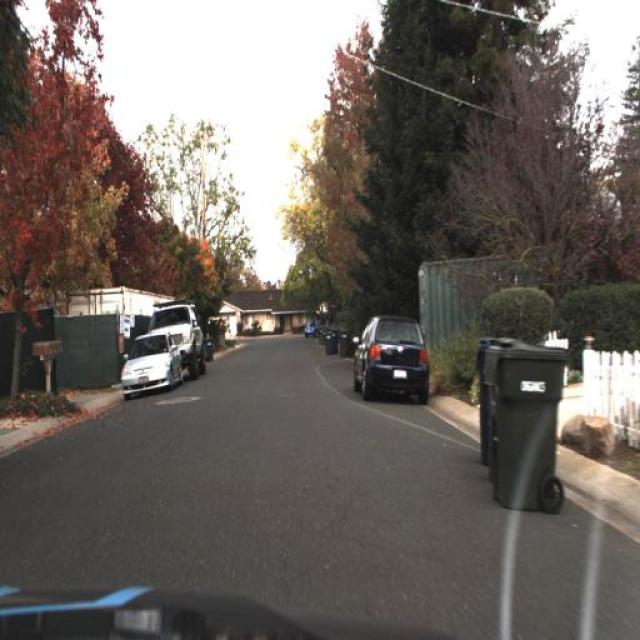car: (350, 308, 440, 408), (112, 323, 189, 408), (147, 296, 205, 376), (177, 302, 204, 376), (305, 320, 323, 338)
